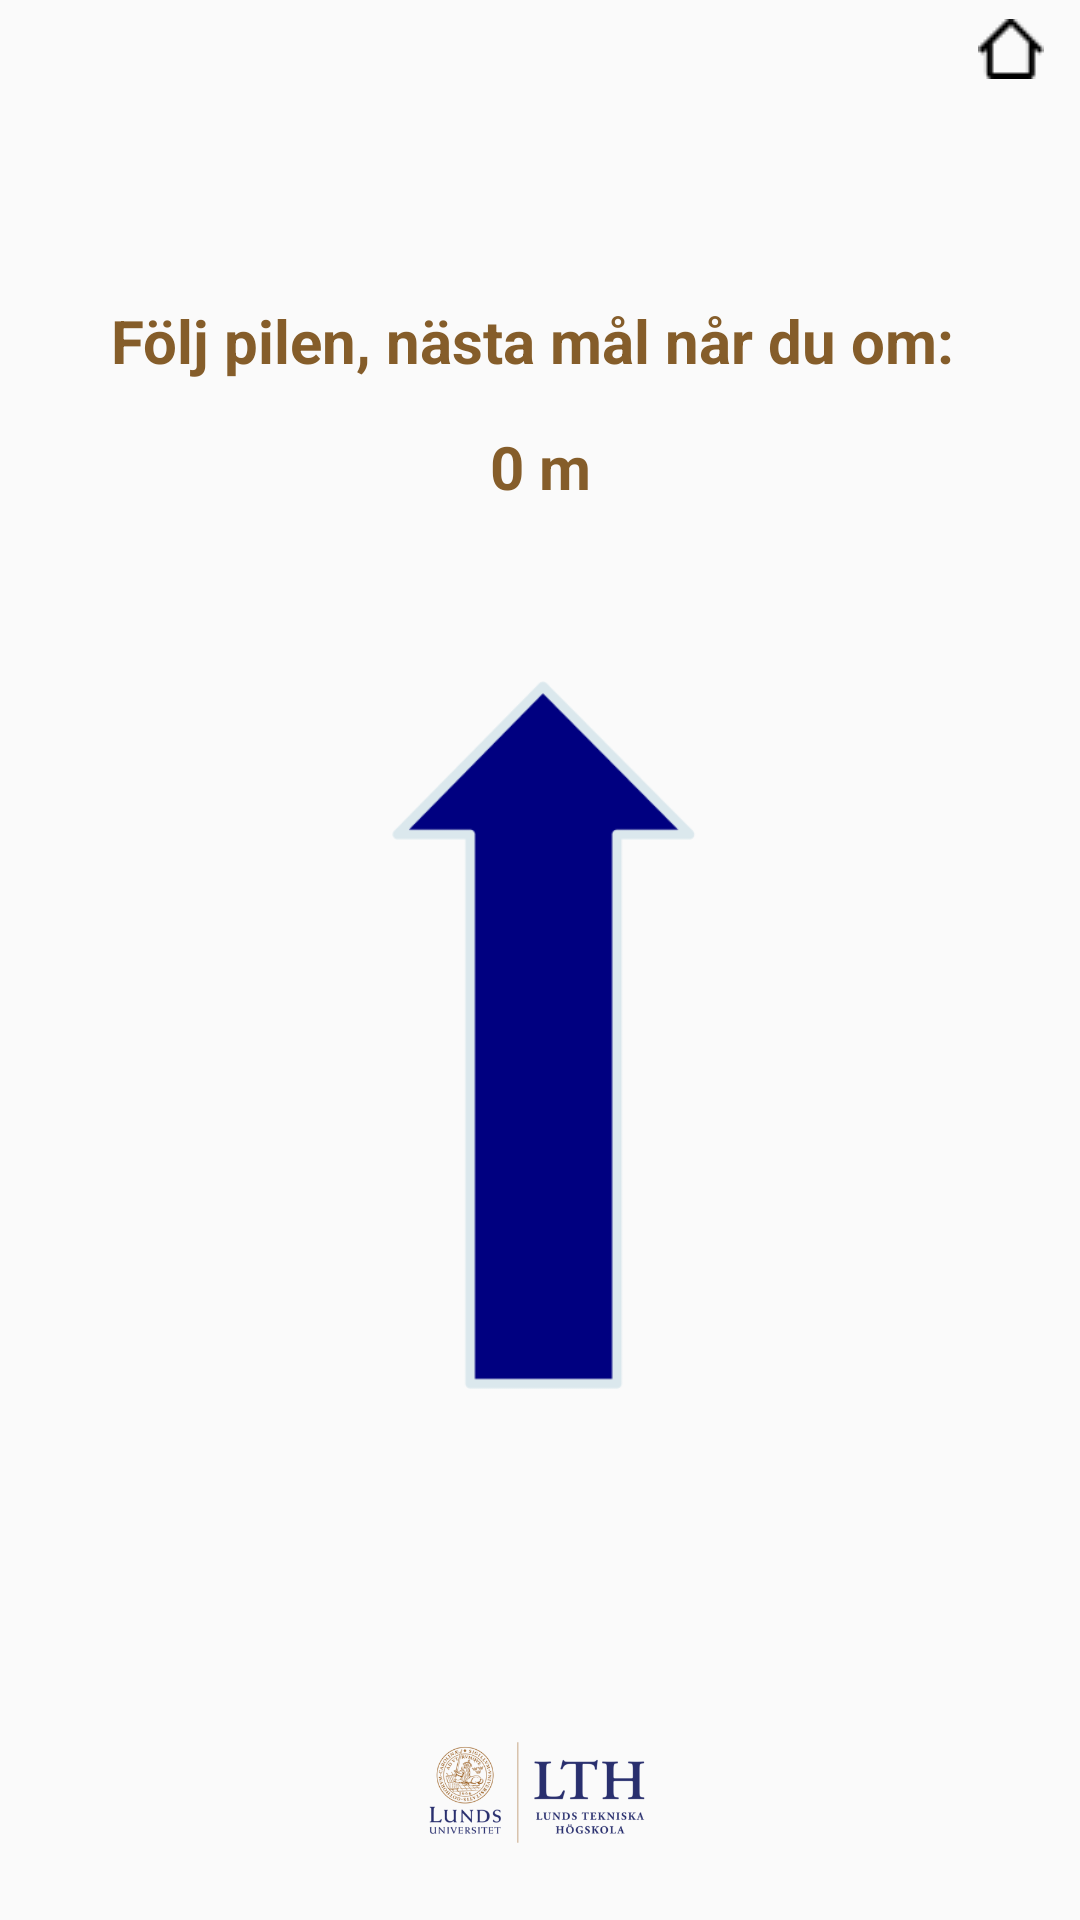

Icon click points for this 1080 x 1920 phone screenshot, format point (x, y):
homeiconblack: point (1011, 49)
